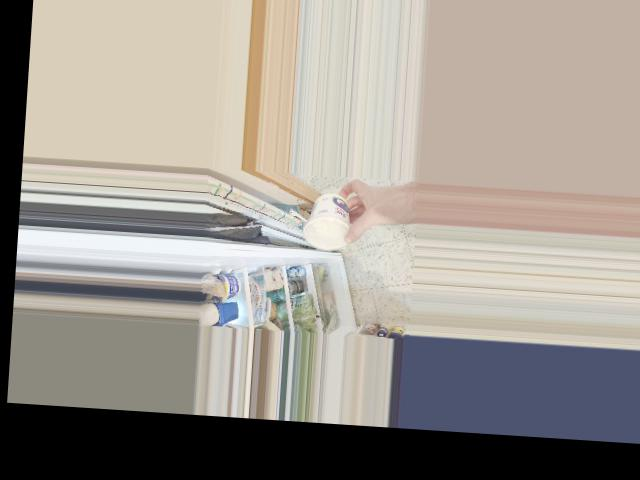cotage: (303, 188, 359, 250)
